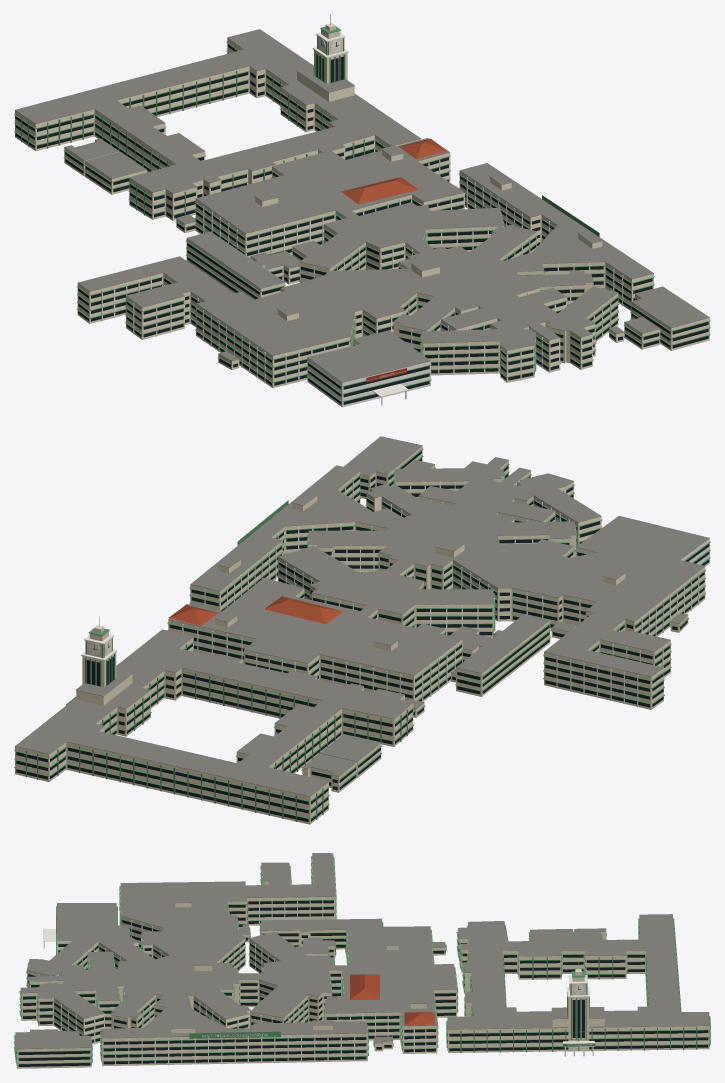
Rendered from medcol.glb.
3 renders of one model, top to bottom at view 1: azimuth 30°, elevation 25°; view 2: azimuth 150°, elevation 25°; view 3: azimuth 270°, elevation 25°, orthographic. The views are drawn at different scales.
Visible parts, largest first — view 1: medcol; view 2: medcol; view 3: medcol.
Boxes of the visible parts, <box> form: medcol: <box>14,14,710,407</box>; medcol: <box>14,436,710,824</box>; medcol: <box>14,853,710,1068</box>.
Size of the model in its own units: 224 by 47.15 by 349.
